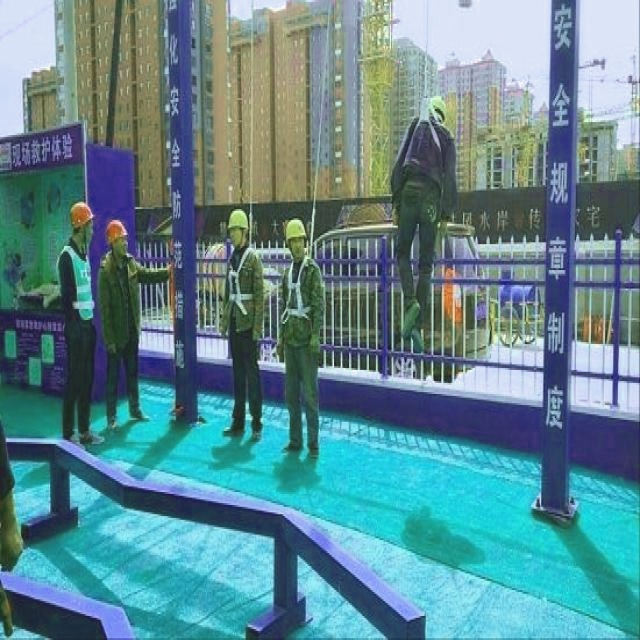Con_Casco: (228, 209, 249, 250), (285, 219, 307, 252)
